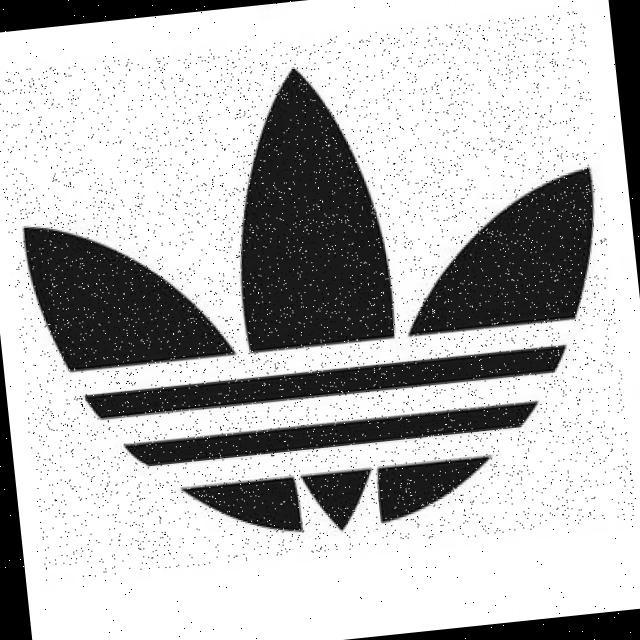Adidas: (0, 9, 637, 581)
